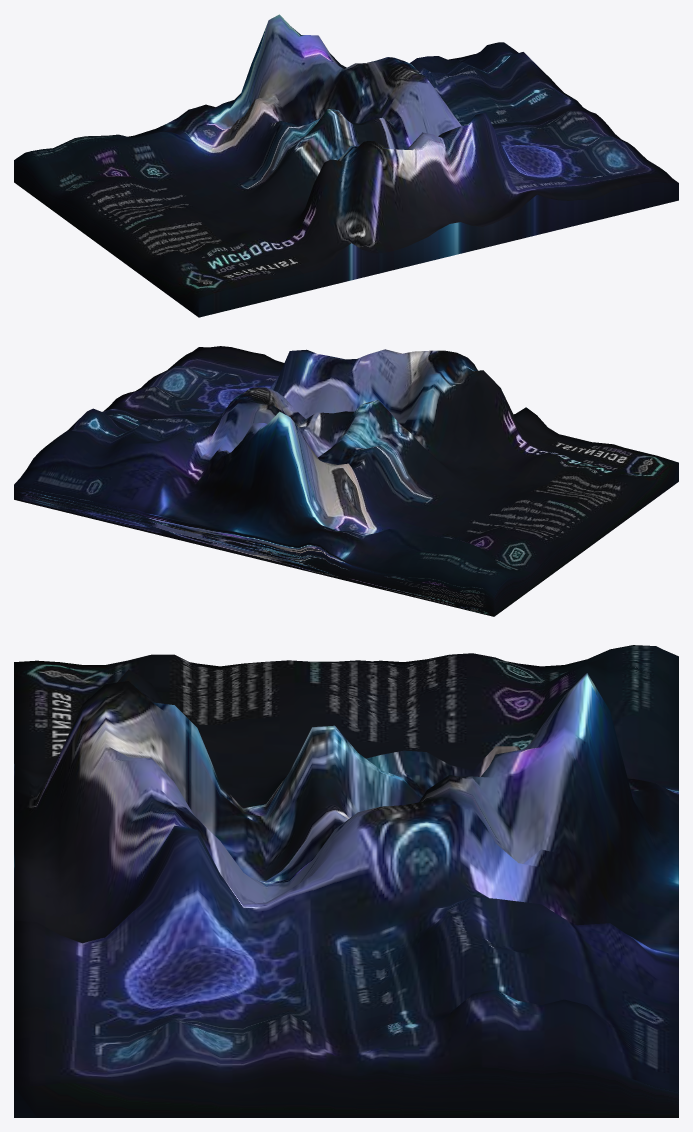
Rendered from CAREER_13_Tool_01_Microscope.glb.
The picture shows the model from 3 angles, top to bottom: view 1: azimuth 30°, elevation 25°; view 2: azimuth 150°, elevation 25°; view 3: azimuth 270°, elevation 25°; orthographic projection. The views are drawn at different scales.
Visible parts, largest first — view 1: CAREER_13_Tool_01_Microscope; view 2: CAREER_13_Tool_01_Microscope; view 3: CAREER_13_Tool_01_Microscope.
Boxes of the visible parts, x1,y1,x2,y2 form: CAREER_13_Tool_01_Microscope: [14, 14, 678, 317]; CAREER_13_Tool_01_Microscope: [14, 346, 678, 616]; CAREER_13_Tool_01_Microscope: [14, 645, 678, 1117].
Size of the model in its own units: 2 by 0.51 by 1.33.
1 material, 1 textured.
